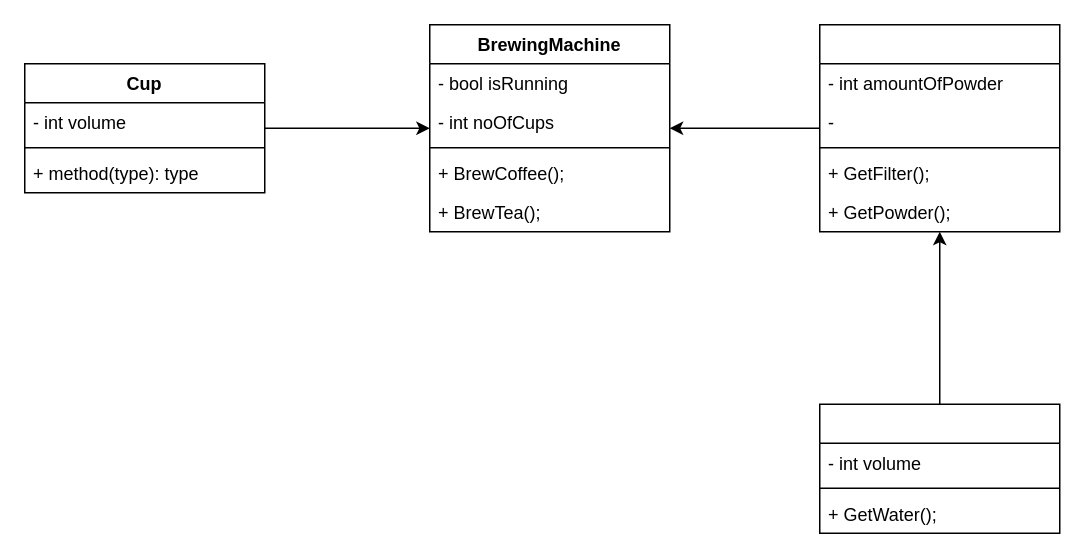
This 1085x558 diagram has some shape labels left out. The shapes that lost their labels are listed below. From the top down, each one's box as (x1, y1, x2, y2) in pixels, then its label:
(818, 23, 1060, 232): Container
(818, 403, 1060, 533): WaterReservoir
